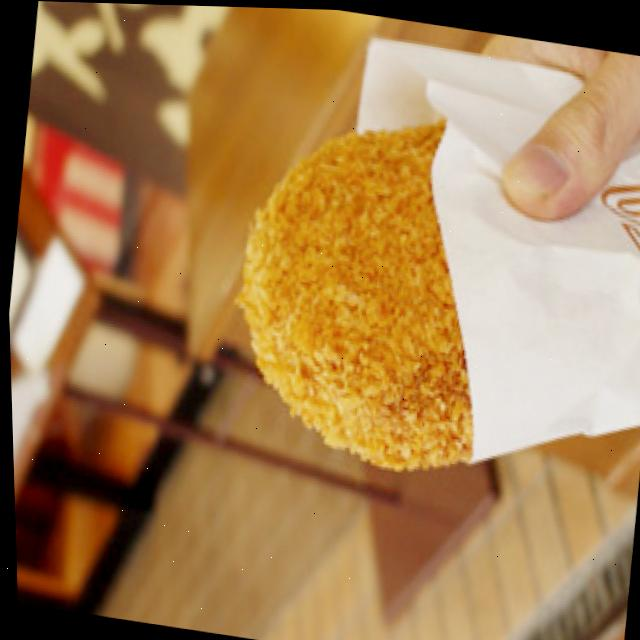炸货点心: (196, 87, 506, 505)
